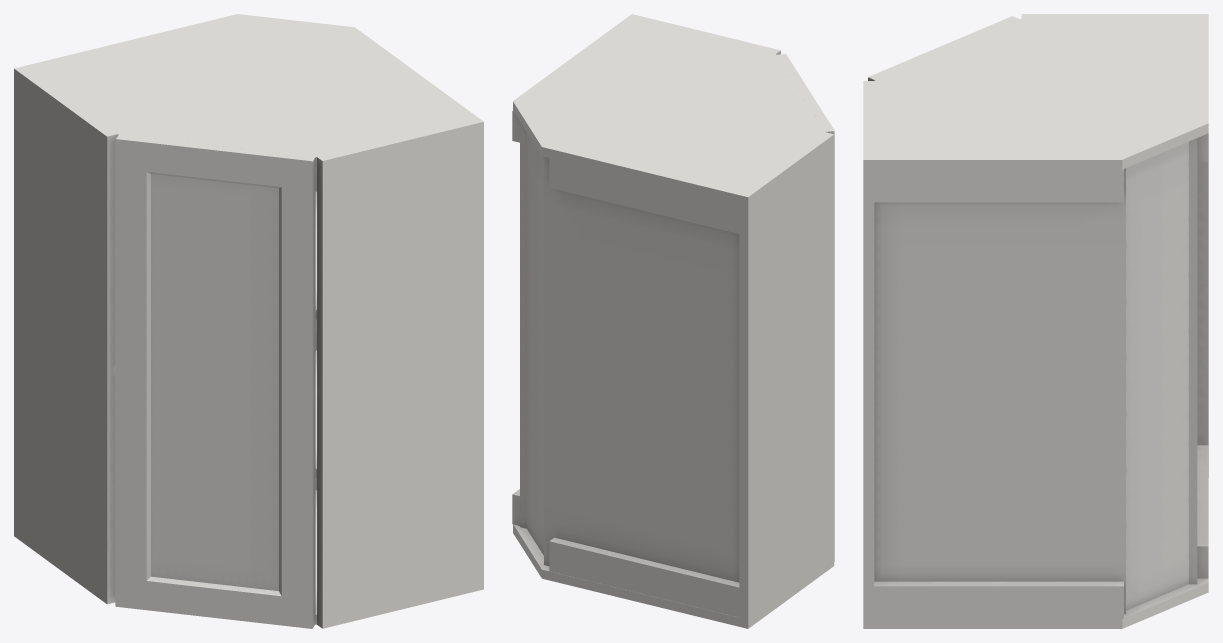
File: wall-45-corner-doors-on.glb
The picture shows the model from 3 angles, left to right: view 1: azimuth 30°, elevation 25°; view 2: azimuth 150°, elevation 25°; view 3: azimuth 270°, elevation 25°; orthographic projection. The views are drawn at different scales.
Parts seen in each view (by area): view 1: part_0, part_17; view 2: part_0, part_17; view 3: part_0, part_17.
Boxes of the visible parts, x1,y1,x2,y2 form: part_0: (14,14,483,628); part_17: (115,134,315,628); part_0: (512,14,834,628); part_17: (776,54,834,561); part_0: (863,14,1208,628); part_17: (868,16,1019,80).
Bounding box in the file's own units: 0.6096 × 0.9144 × 0.6096.
2 materials, 2 textured.
